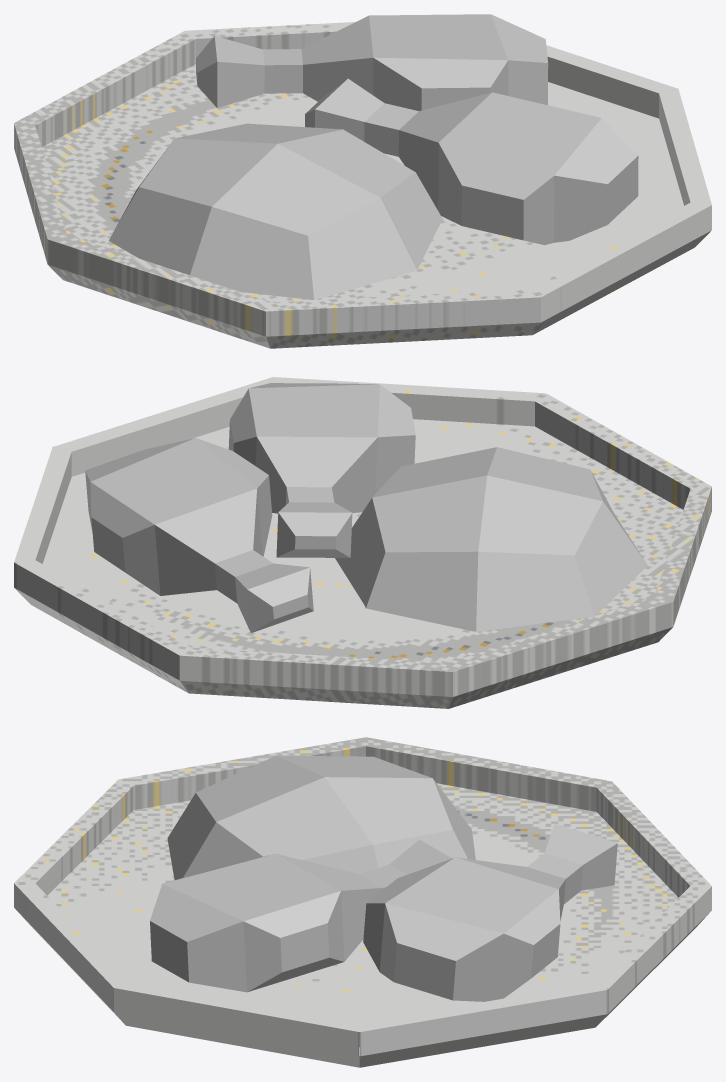
Rendered from SM_ChickenRice.fbx.
3 views of the same model, one above another, from view 1: azimuth 30°, elevation 25°; view 2: azimuth 150°, elevation 25°; view 3: azimuth 270°, elevation 25° (orthographic). The views are drawn at different scales.
Parts seen in each view (by area): view 1: Plate, Rice, Cube.012, Cube.013; view 2: Plate, Rice, Cube.013, Cube.012; view 3: Plate, Cube.013, Rice, Cube.012.
Part boxes in pixels (x1,y1,x2,y2): Plate: (14,22,711,348); Rice: (109,123,442,299); Cube.012: (305,78,638,245); Cube.013: (196,14,548,110); Plate: (14,377,711,708); Rice: (335,447,647,631); Cube.013: (85,438,313,632); Cube.012: (228,383,415,557); Plate: (14,737,711,1067); Cube.013: (363,823,617,1001); Rice: (167,755,475,879); Cube.012: (150,839,451,992).
Bounding box in the file's own units: 0.6452 × 0.1029 × 0.6452.
